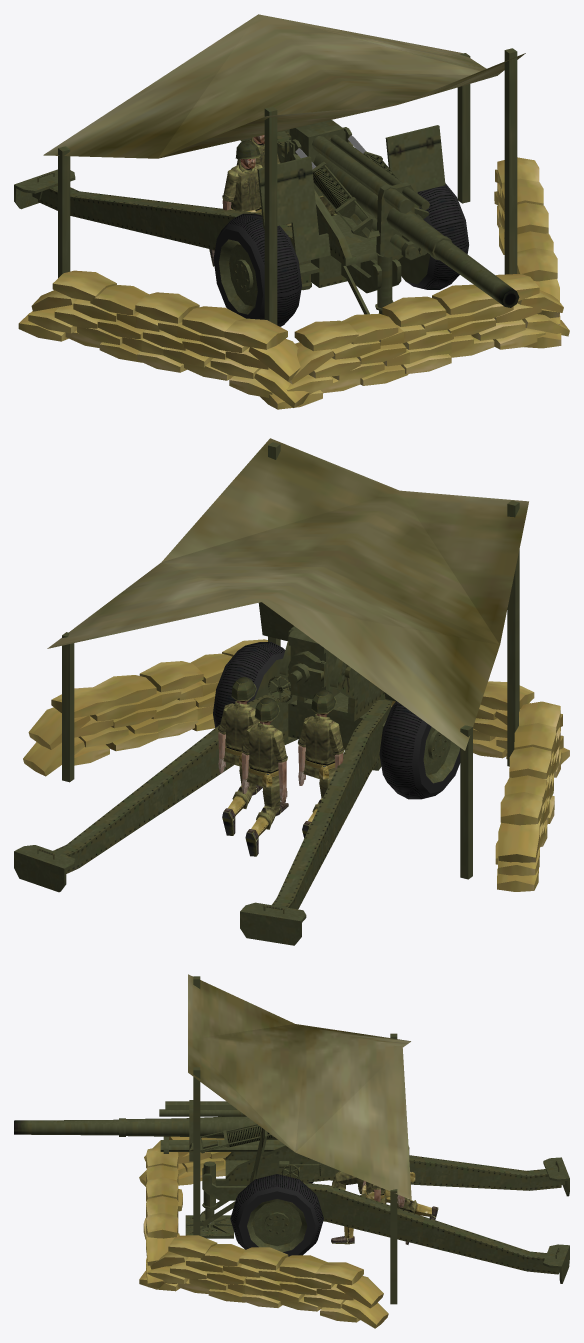
File: USM1_45inGun_stationary.dae
3 views of the same model, one above another, from view 1: azimuth 30°, elevation 25°; view 2: azimuth 150°, elevation 25°; view 3: azimuth 270°, elevation 25° (orthographic). The views are drawn at different scales.
Parts seen in each view (by area): view 1: base, wheels, turret, trail2, sleeve, barrel, carriage, cylynder1, torso2, spade2, support2, head2; view 2: base, wheels, trail1, trail2, turret, spade2, spade1, torso3, torso2, sleeve, torso1, barrel (+1 smaller); view 3: base, trail1, wheels, trail2, barrel, turret, sleeve, cylynder1, pad, carriage, spade1, spade2 (+1 smaller).
Boxes of the visible parts, x1,y1,x2,y2 form: base: (18, 14, 569, 409); wheels: (213, 183, 468, 326); turret: (257, 125, 445, 266); trail2: (38, 186, 311, 290); sleeve: (289, 120, 429, 259); barrel: (281, 136, 519, 307); carriage: (299, 254, 403, 293); cylynder1: (312, 151, 429, 238); torso2: (231, 162, 261, 212); spade2: (14, 169, 75, 209); support2: (375, 253, 392, 314); head2: (235, 140, 260, 168); base: (23, 438, 569, 891); wheels: (213, 642, 460, 799); trail1: (53, 685, 298, 873); trail2: (272, 699, 391, 909); turret: (258, 602, 395, 721); spade2: (240, 902, 306, 945); spade1: (14, 845, 74, 892); torso3: (246, 722, 279, 787); torso2: (303, 714, 335, 779); sleeve: (288, 628, 354, 699); torso1: (223, 701, 253, 766); barrel: (287, 651, 326, 687); base: (139, 974, 411, 1328); trail1: (303, 1182, 559, 1274); wheels: (230, 1174, 323, 1256); trail2: (300, 1155, 561, 1190); barrel: (14, 1116, 277, 1139); turret: (225, 1128, 320, 1184); sleeve: (159, 1100, 285, 1161); cylynder1: (189, 1116, 273, 1153); pad: (185, 1215, 233, 1238); carriage: (202, 1167, 247, 1200); spade1: (543, 1244, 569, 1283); spade2: (543, 1157, 569, 1196).
Size of the model in its own units: 51.33 by 62.09 by 26.09.
